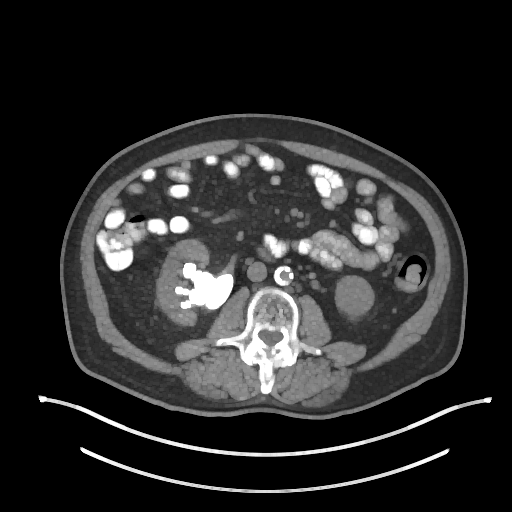Lesion: (172, 259, 238, 314)
